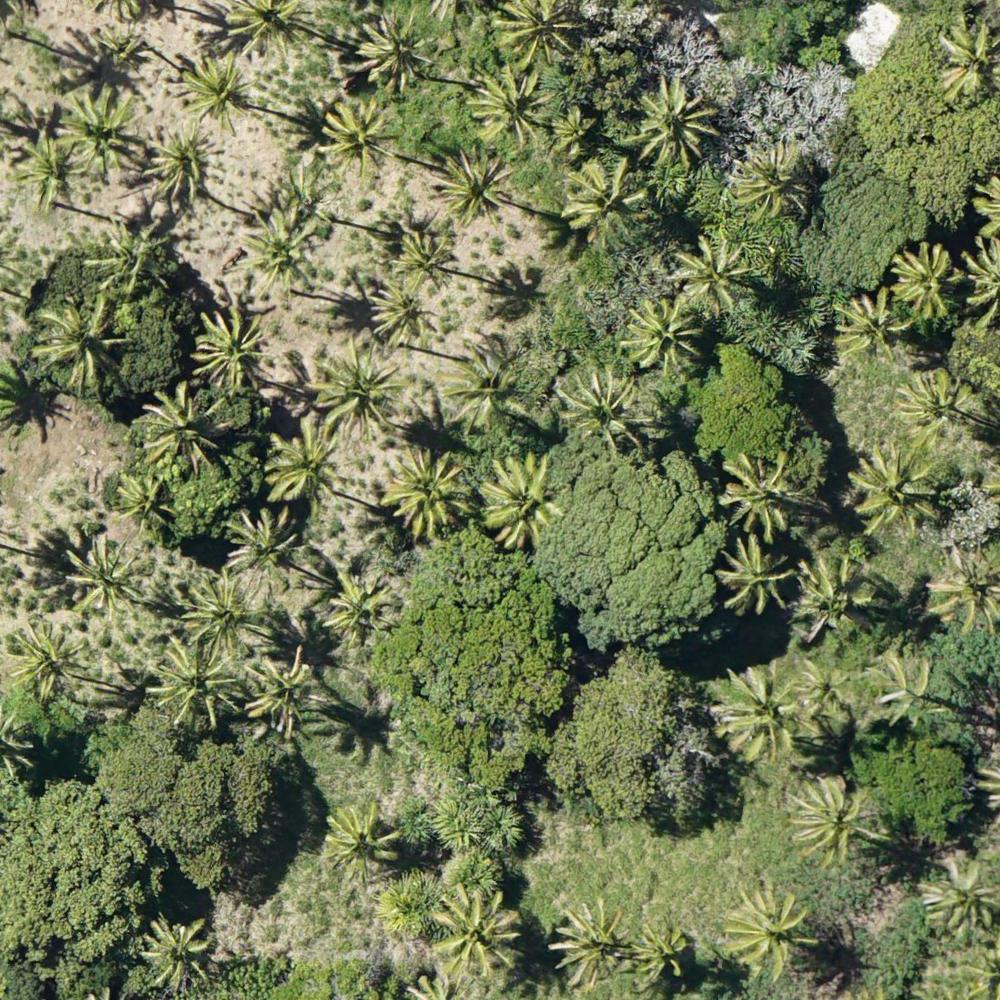Palm: (148, 635, 248, 730), (555, 369, 656, 457), (312, 339, 404, 435), (721, 883, 814, 977), (476, 456, 564, 551), (632, 73, 720, 168), (790, 774, 882, 864), (716, 669, 805, 757), (849, 446, 941, 530), (435, 882, 517, 974), (39, 299, 125, 386), (7, 614, 97, 697), (62, 535, 147, 622), (243, 207, 319, 302), (449, 343, 531, 431), (147, 381, 229, 469), (387, 449, 473, 531), (182, 574, 264, 658), (719, 451, 805, 531), (733, 141, 817, 222), (472, 66, 557, 146), (190, 305, 273, 386), (356, 8, 433, 95), (888, 373, 976, 449), (89, 216, 170, 298), (553, 900, 632, 984), (224, 510, 302, 593), (671, 235, 755, 311), (249, 654, 324, 738), (918, 855, 998, 933), (317, 98, 397, 176), (795, 559, 872, 639), (567, 162, 648, 238), (928, 544, 1000, 627), (717, 538, 798, 611), (179, 51, 249, 134), (829, 293, 908, 364), (626, 299, 702, 372), (437, 148, 509, 225), (58, 95, 136, 165), (889, 243, 964, 314), (497, 1, 581, 64), (326, 805, 400, 876), (220, 1, 311, 58), (329, 567, 399, 641), (934, 21, 1000, 98), (142, 917, 215, 986), (262, 434, 336, 502), (15, 139, 85, 202), (146, 130, 208, 201), (630, 919, 695, 983), (370, 286, 438, 347), (871, 655, 935, 719), (798, 660, 859, 723), (393, 233, 458, 290), (113, 474, 180, 529), (91, 22, 155, 71), (552, 104, 598, 154)
